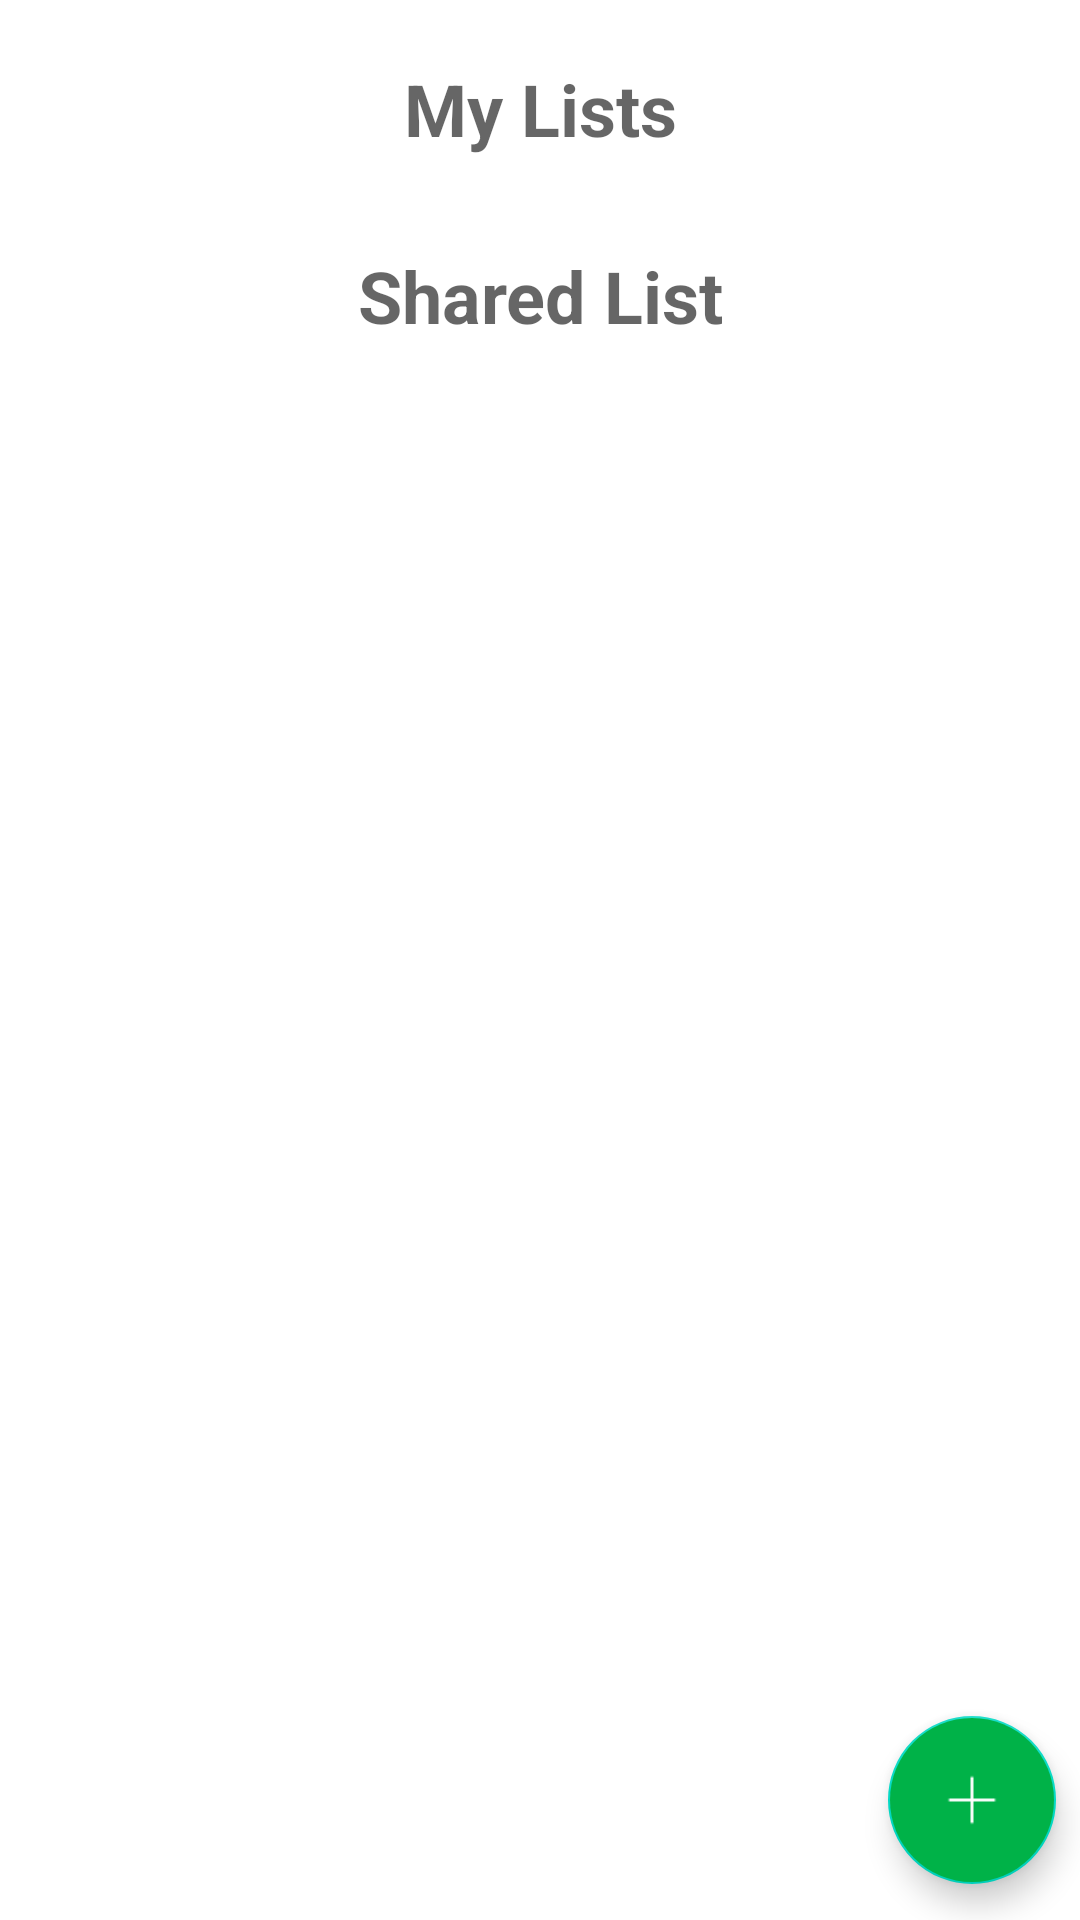

Icons on this 1080 x 1920 Android screen, each with the point to tap as point (x, y):
add: point (972, 1800)
